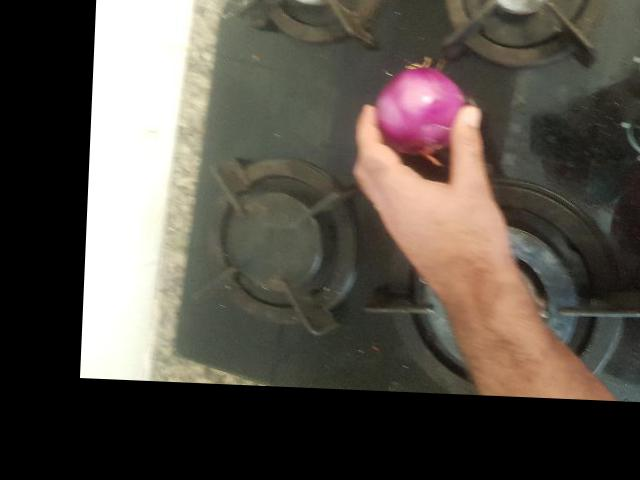onion: (249, 4, 348, 105)
